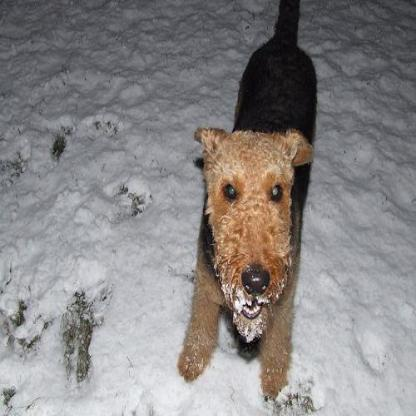dog: (187, 19, 333, 404)
